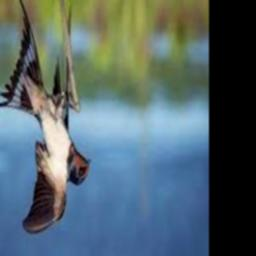Swallow: (0, 0, 89, 233)
